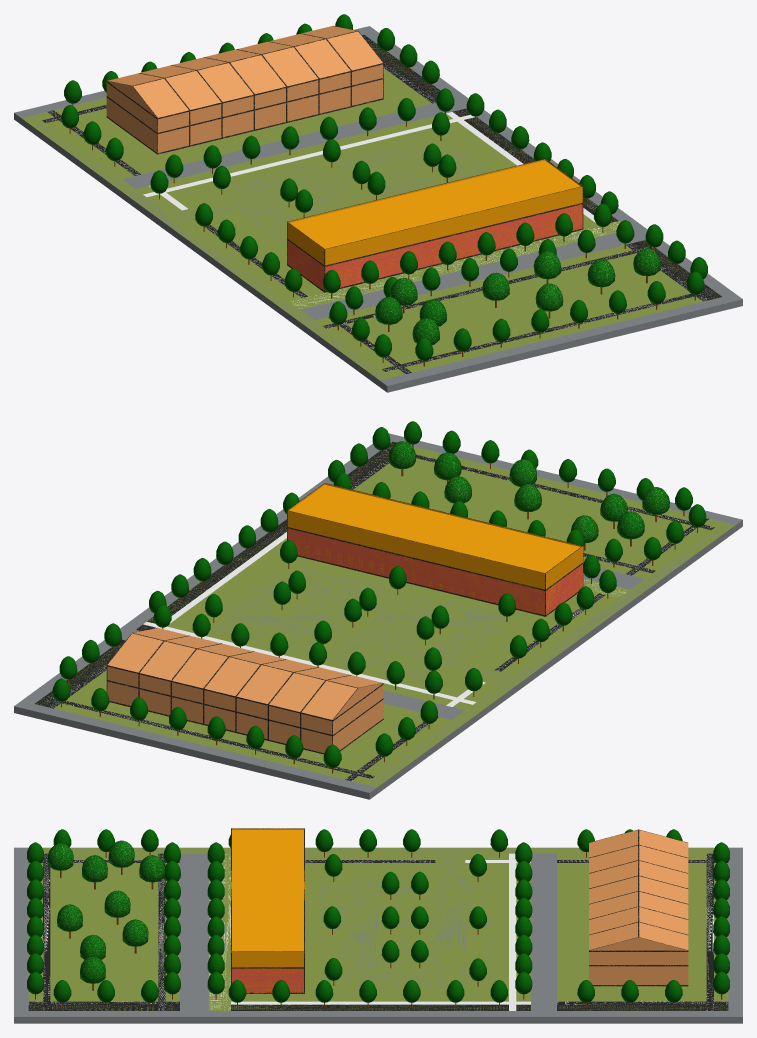
Rendered from 225_townhome_commercial_A1.dae.
3 views of the same model, one above another, from view 1: azimuth 30°, elevation 25°; view 2: azimuth 150°, elevation 25°; view 3: azimuth 270°, elevation 25° (orthographic). The views are drawn at different scales.
Parts seen in each view (by area): view 1: group_1 (×18), _10k_Commercial (×6), Component_2 (×14), Tree_z_Icon_3_1 (×6); view 2: group_1 (×16), _10k_Commercial (×6), Component_2 (×10), Tree_z_Icon_3_1 (×7); view 3: group_1 (×18), Component_2 (×18), _10k_Commercial (×4), Tree_z_Icon_3_1 (×9).
Boxes of the visible parts, bbox=[...] form: group_1 (×18): bbox=[14, 26, 742, 392]; _10k_Commercial (×6): bbox=[287, 159, 583, 292]; Component_2 (×14): bbox=[106, 31, 382, 154]; Tree_z_Icon_3_1 (×6): bbox=[375, 248, 660, 324]; group_1 (×16): bbox=[14, 433, 742, 799]; _10k_Commercial (×6): bbox=[287, 483, 583, 616]; Component_2 (×10): bbox=[108, 633, 383, 754]; Tree_z_Icon_3_1 (×7): bbox=[388, 441, 669, 539]; group_1 (×18): bbox=[14, 847, 742, 1023]; Component_2 (×18): bbox=[589, 830, 688, 986]; _10k_Commercial (×4): bbox=[231, 828, 304, 993]; Tree_z_Icon_3_1 (×9): bbox=[47, 840, 164, 983].
Size of the model in its own units: 53.63 by 97.5 by 8.19.
